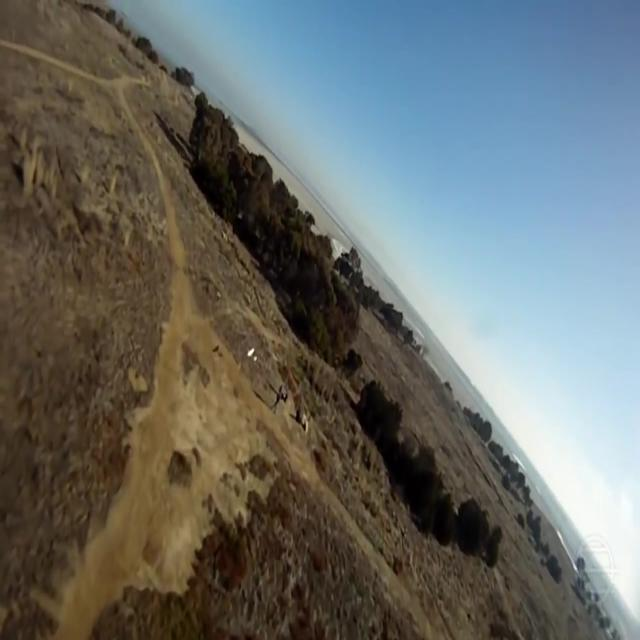iha: (250, 347, 254, 362)
